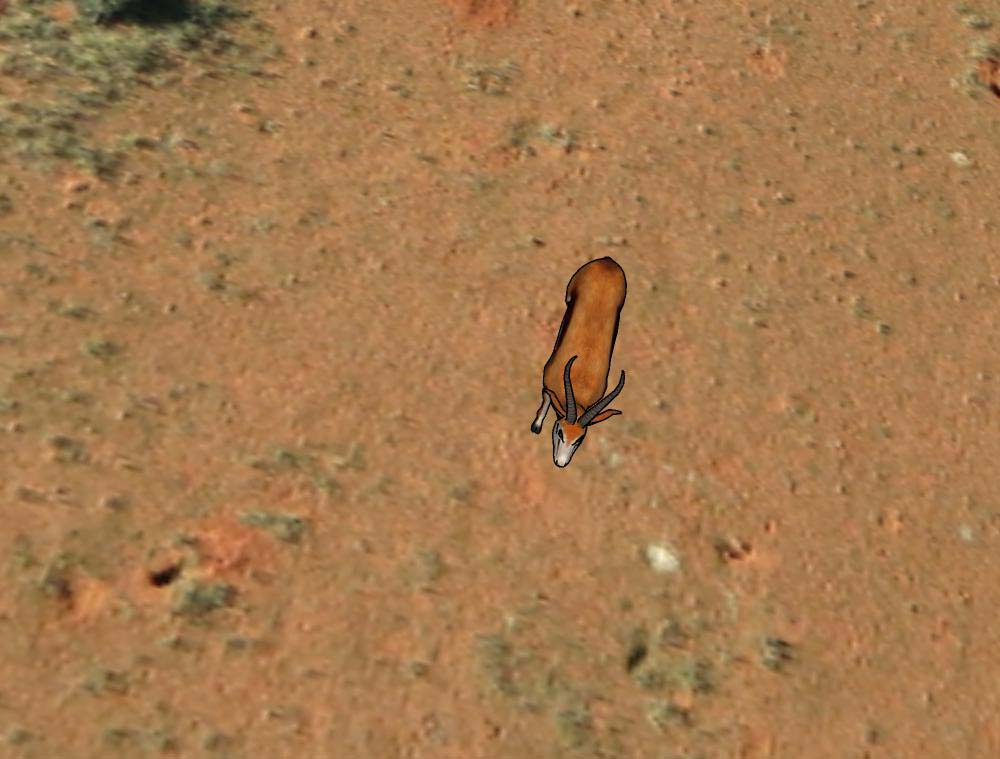springbok: (529, 255, 637, 470)
